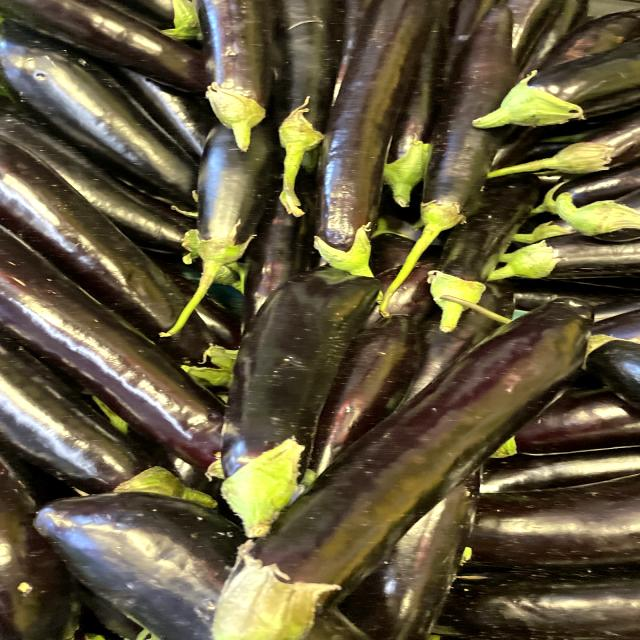eggplant: (200, 255, 395, 540), (372, 0, 523, 296), (189, 0, 288, 167)
